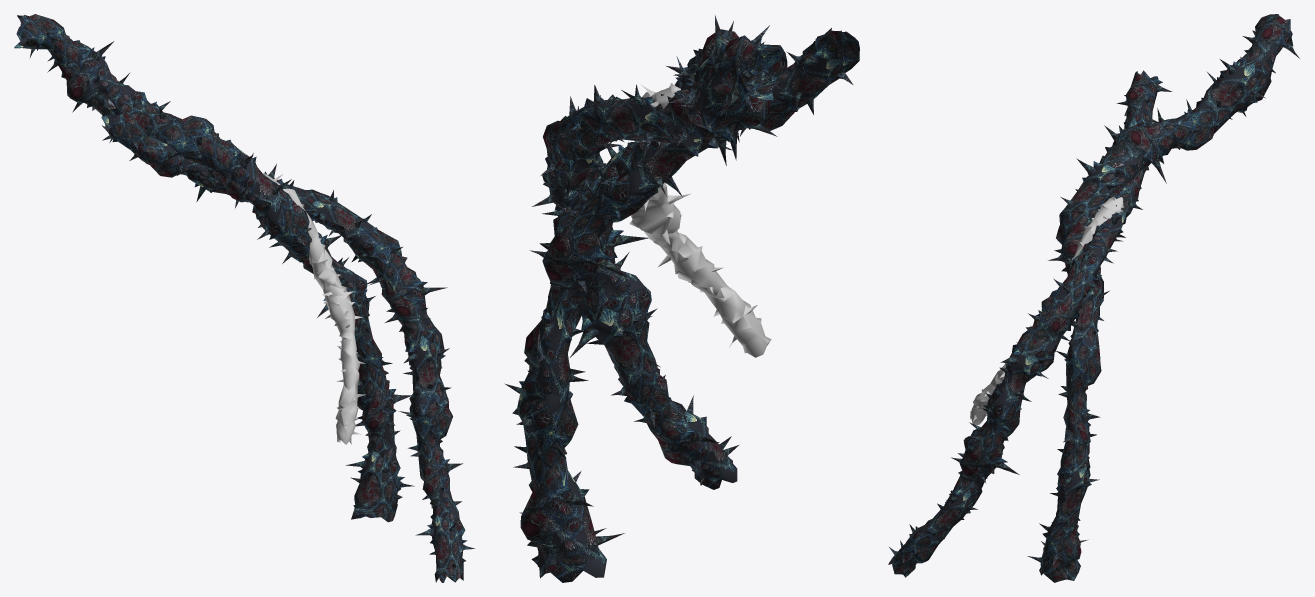
File: 02_03_Makaijyu.fbx
3 renders of one model, left to right at view 1: azimuth 30°, elevation 25°; view 2: azimuth 150°, elevation 25°; view 3: azimuth 270°, elevation 25°, orthographic. The views are drawn at different scales.
Visible parts, largest first — view 1: LODGroup_3_MainMesh_1_SubMesh_2, LODGroup_3_MainMesh_1_SubMesh_1; view 2: LODGroup_3_MainMesh_1_SubMesh_2, LODGroup_3_MainMesh_1_SubMesh_1; view 3: LODGroup_3_MainMesh_1_SubMesh_2, LODGroup_3_MainMesh_1_SubMesh_1.
Boxes of the visible parts, bbox=[...] form: LODGroup_3_MainMesh_1_SubMesh_2: bbox=[14, 14, 474, 582]; LODGroup_3_MainMesh_1_SubMesh_1: bbox=[262, 173, 366, 444]; LODGroup_3_MainMesh_1_SubMesh_2: bbox=[504, 15, 859, 582]; LODGroup_3_MainMesh_1_SubMesh_1: bbox=[618, 81, 771, 357]; LODGroup_3_MainMesh_1_SubMesh_2: bbox=[888, 14, 1299, 582]; LODGroup_3_MainMesh_1_SubMesh_1: bbox=[970, 196, 1123, 425].
Bounding box in the file's own units: 1120 × 1780 × 1459.
